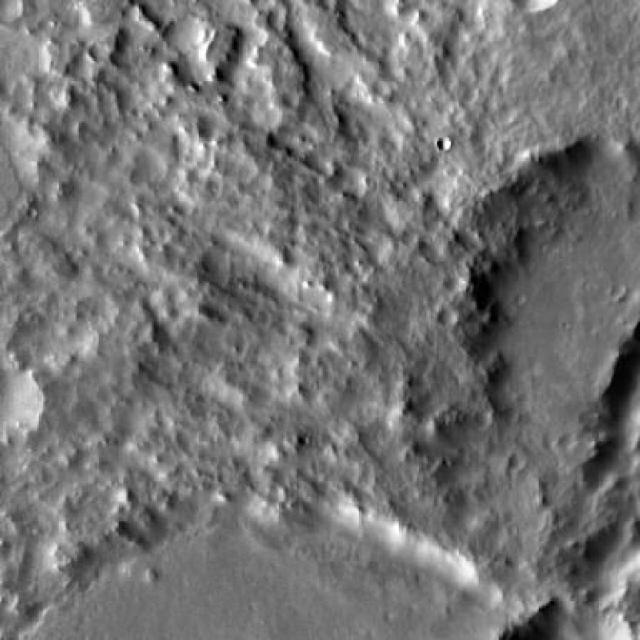crater: (16, 498, 504, 640), (0, 370, 44, 442), (0, 0, 33, 20)
